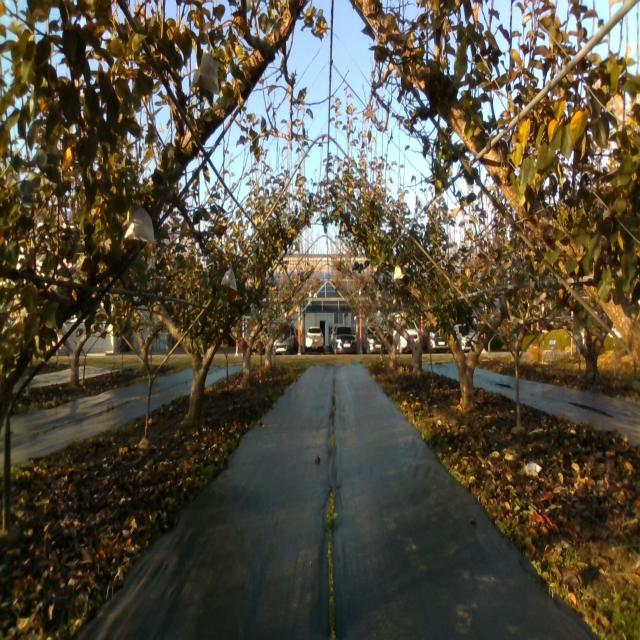pearbags: (124, 205, 156, 245), (193, 53, 220, 94), (222, 268, 237, 292)
